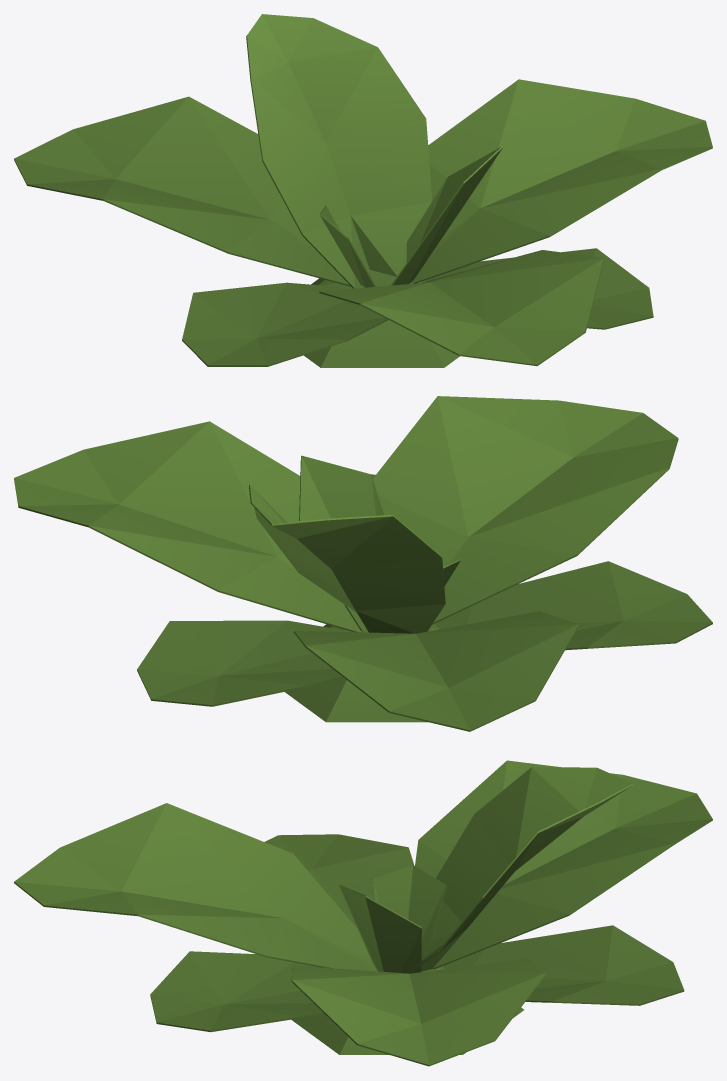
File: Crop_Cabbage_STAGE_1_02.obj
3 renders of one model, top to bottom at view 1: azimuth 30°, elevation 25°; view 2: azimuth 150°, elevation 25°; view 3: azimuth 270°, elevation 25°, orthographic. The views are drawn at different scales.
Visible parts, largest first — view 1: Crop_Cabbage_STAGE_1_02; view 2: Crop_Cabbage_STAGE_1_02; view 3: Crop_Cabbage_STAGE_1_02.
Boxes of the visible parts, x1,y1,x2,y2 form: Crop_Cabbage_STAGE_1_02: [14, 14, 712, 367]; Crop_Cabbage_STAGE_1_02: [14, 396, 712, 731]; Crop_Cabbage_STAGE_1_02: [14, 760, 712, 1066].
Bounding box in the file's own units: 0.4024 × 0.1486 × 0.4197.
Materials: 1 (1 with a texture image).
